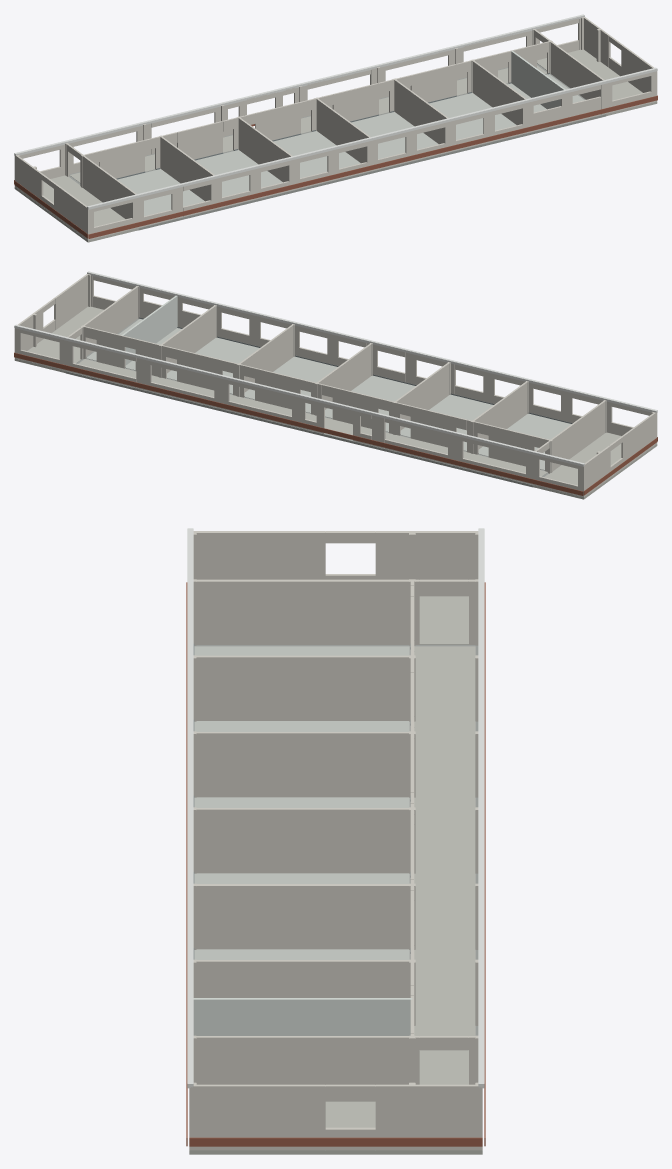
Rendered from floor-01.shell.glb.
The picture shows the model from 3 angles, top to bottom: view 1: azimuth 30°, elevation 25°; view 2: azimuth 150°, elevation 25°; view 3: azimuth 270°, elevation 25°; orthographic projection. The views are drawn at different scales.
Parts seen in each view (by area): view 1: Floor_01_StructureShell__Plaster_WarmLimestone, Floor_01_StructureShell__tile_floor, Floor_01_StructureShell__Paint_OffWhite, Floor_01_StructureShell__terrazzo, Floor_01_StructureShell__Terracotta_FiredClay, Floor_01_StructureShell__Concrete_FineCast, Floor_01_StructureShell__tile_wall; view 2: Floor_01_StructureShell__Plaster_WarmLimestone, Floor_01_StructureShell__tile_floor, Floor_01_StructureShell__terrazzo, Floor_01_StructureShell__Paint_OffWhite, Floor_01_StructureShell__Terracotta_FiredClay, Floor_01_StructureShell__Concrete_FineCast, Floor_01_StructureShell__tile_wall, Floor_01_StructureShell__Paint_Slate; view 3: Floor_01_StructureShell__Plaster_WarmLimestone, Floor_01_StructureShell__terrazzo, Floor_01_StructureShell__tile_floor, Floor_01_StructureShell__tile_wall, Floor_01_StructureShell__Paint_OffWhite, Floor_01_StructureShell__Terracotta_FiredClay, Floor_01_StructureShell__Concrete_FineCast.
Boxes of the visible parts, left/top/right/bottom form: Floor_01_StructureShell__Plaster_WarmLimestone: left=14, top=17, right=657, bottom=240; Floor_01_StructureShell__tile_floor: left=117, top=74, right=584, bottom=216; Floor_01_StructureShell__Paint_OffWhite: left=14, top=14, right=657, bottom=209; Floor_01_StructureShell__terrazzo: left=14, top=49, right=657, bottom=242; Floor_01_StructureShell__Terracotta_FiredClay: left=14, top=95, right=657, bottom=238; Floor_01_StructureShell__Concrete_FineCast: left=69, top=64, right=606, bottom=230; Floor_01_StructureShell__tile_wall: left=511, top=50, right=565, bottom=109; Floor_01_StructureShell__Plaster_WarmLimestone: left=14, top=274, right=657, bottom=497; Floor_01_StructureShell__tile_floor: left=87, top=319, right=571, bottom=470; Floor_01_StructureShell__terrazzo: left=14, top=306, right=657, bottom=499; Floor_01_StructureShell__Paint_OffWhite: left=14, top=271, right=657, bottom=466; Floor_01_StructureShell__Terracotta_FiredClay: left=14, top=352, right=657, bottom=495; Floor_01_StructureShell__Concrete_FineCast: left=65, top=318, right=548, bottom=487; Floor_01_StructureShell__tile_wall: left=121, top=295, right=177, bottom=365; Floor_01_StructureShell__Paint_Slate: left=86, top=317, right=572, bottom=453; Floor_01_StructureShell__Plaster_WarmLimestone: left=189, top=531, right=482, bottom=1150; Floor_01_StructureShell__terrazzo: left=189, top=596, right=482, bottom=1154; Floor_01_StructureShell__tile_floor: left=194, top=646, right=409, bottom=959; Floor_01_StructureShell__tile_wall: left=193, top=998, right=412, bottom=1035; Floor_01_StructureShell__Paint_OffWhite: left=187, top=528, right=484, bottom=1088; Floor_01_StructureShell__Terracotta_FiredClay: left=186, top=582, right=485, bottom=1146; Floor_01_StructureShell__Concrete_FineCast: left=194, top=645, right=478, bottom=1035.
Bounding box in the file's own units: 62.87 × 3.78 × 14.31.
